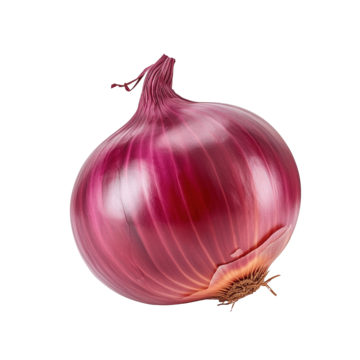onion: (55, 39, 328, 332)
